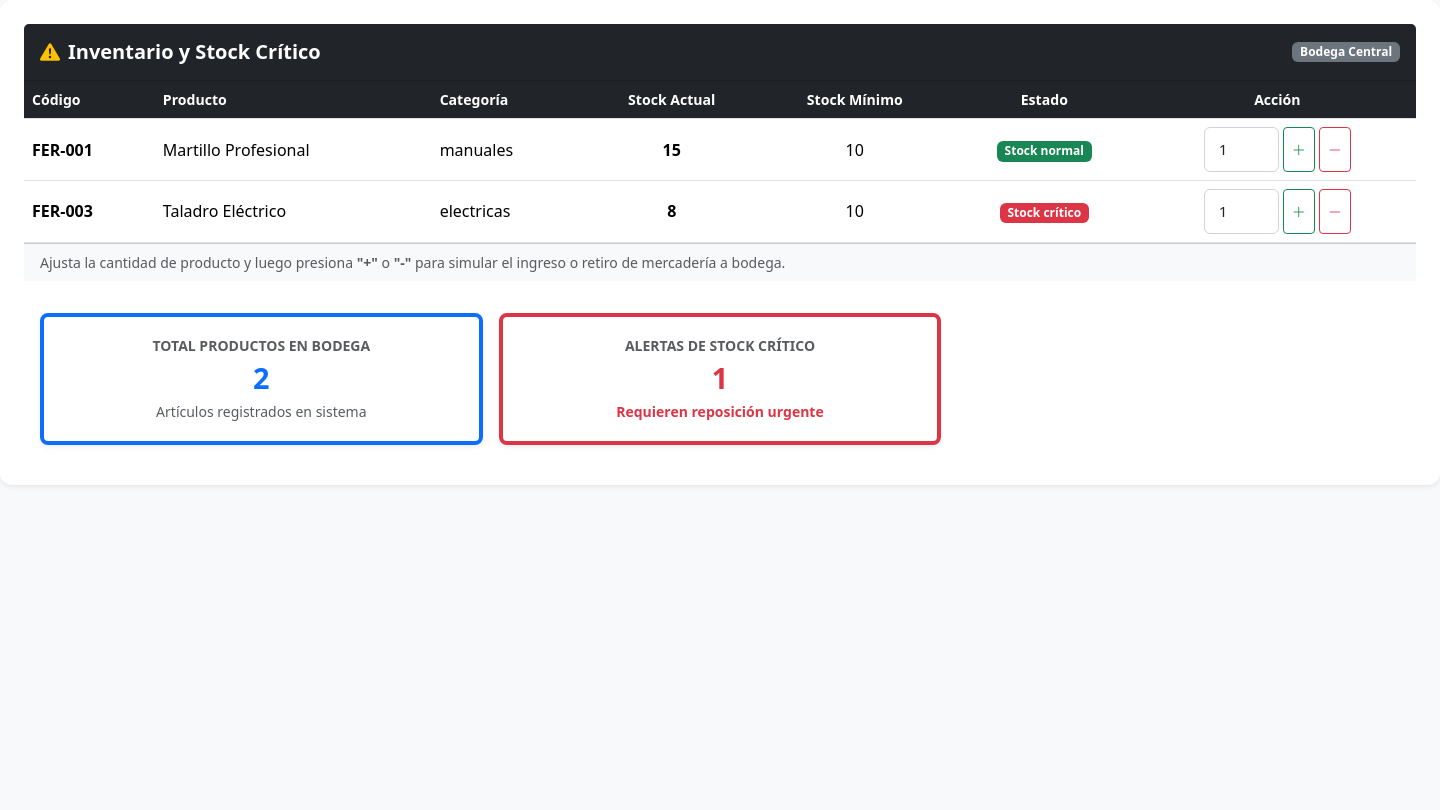
Scenario: ControlStockAdmin › rechaza cantidades inválidas y quitar más stock del disponible
Replace the text in the number field in the row of "FER-001" with "0" at (1241,150), box [1204,127,1279,172]
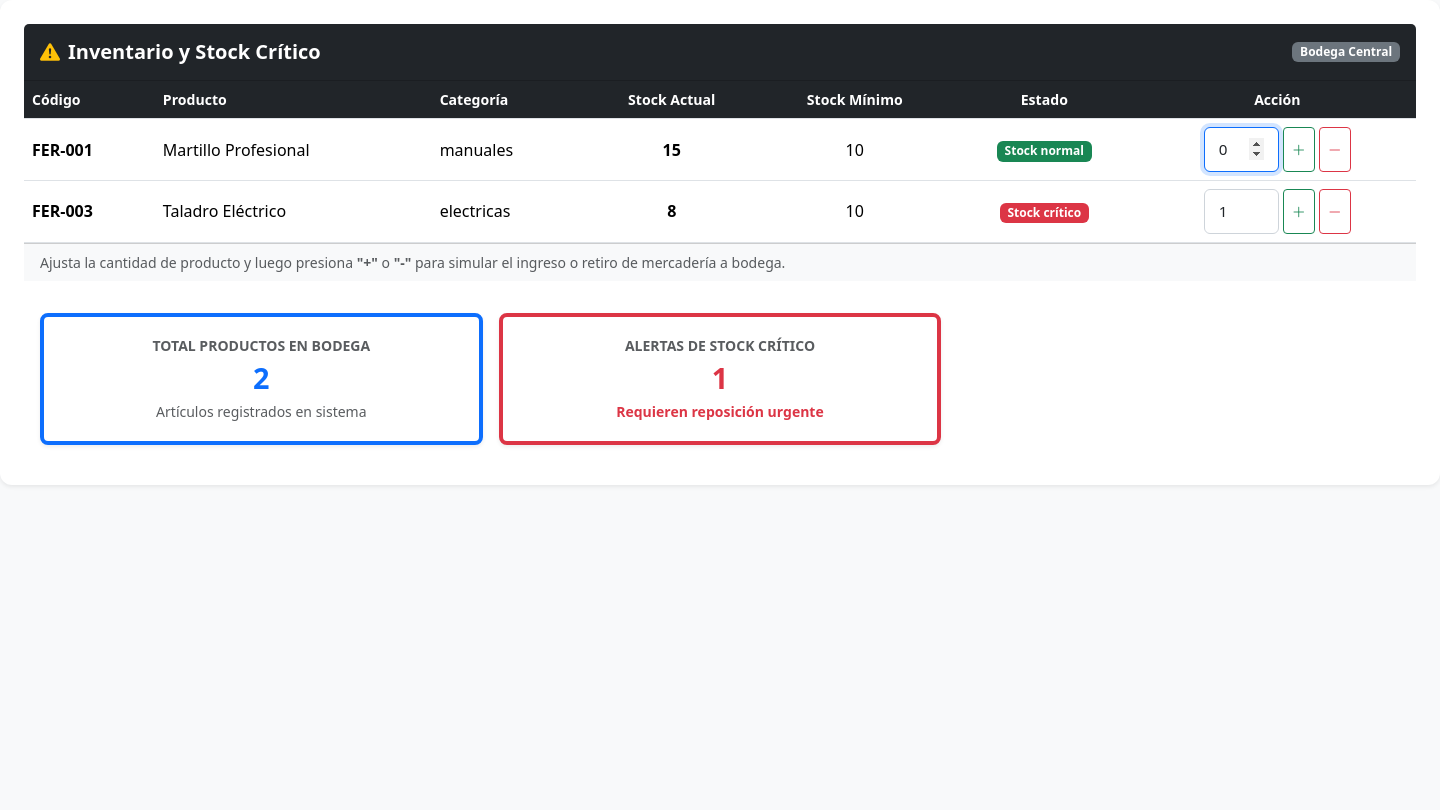
Click the button named "Agregar unidades" in the row of "FER-001" at (1299,150), box [1283,127,1315,172]
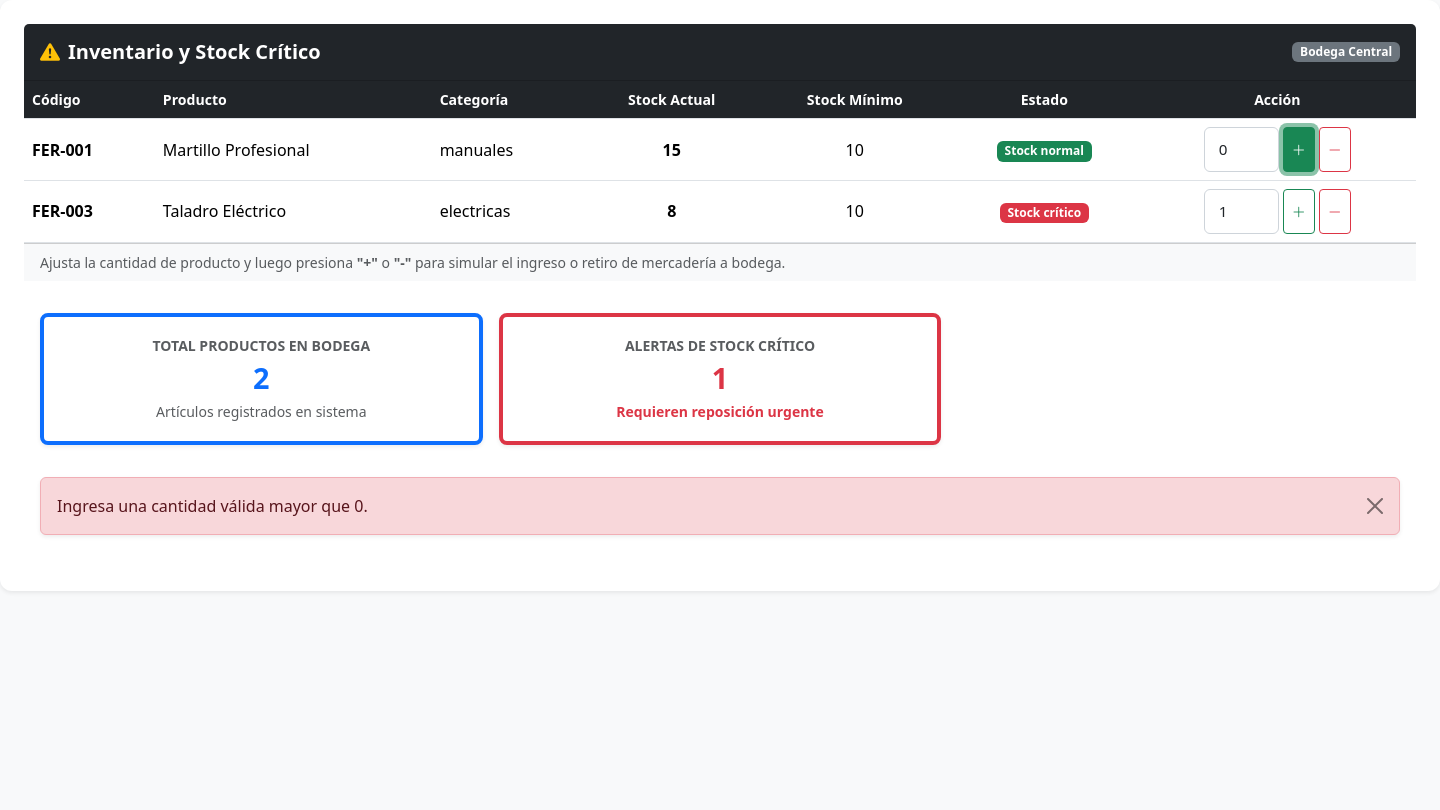
Result: the text "Ingresa una cantidad válida mayor que 0." is shown at [57,495,368,517]
Replace the text in the number field in the row of "FER-003" with "99" at (1241,211), box [1204,189,1279,234]
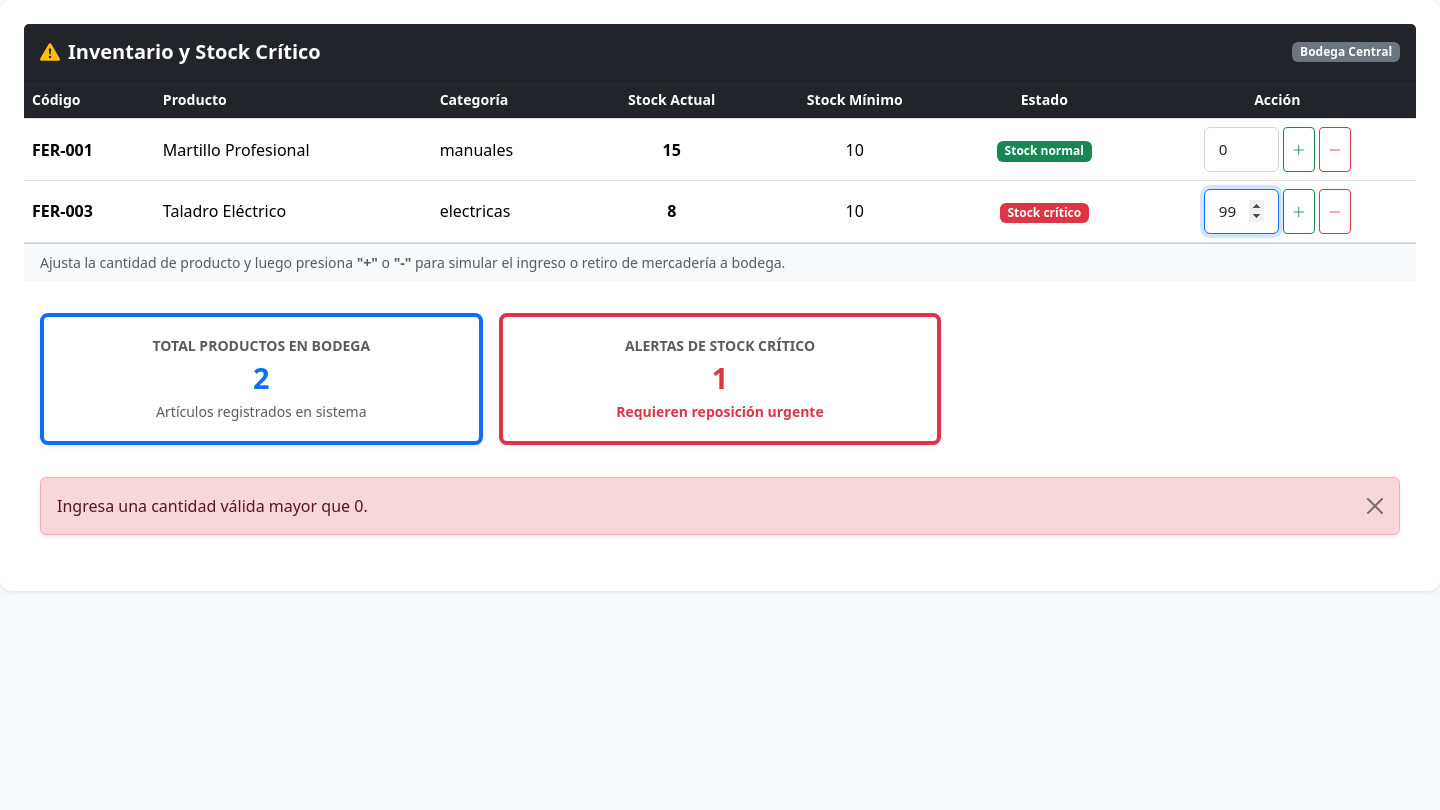
Click the button named "Quitar unidades" in the row of "FER-003" at (1335,211), box [1319,189,1351,234]
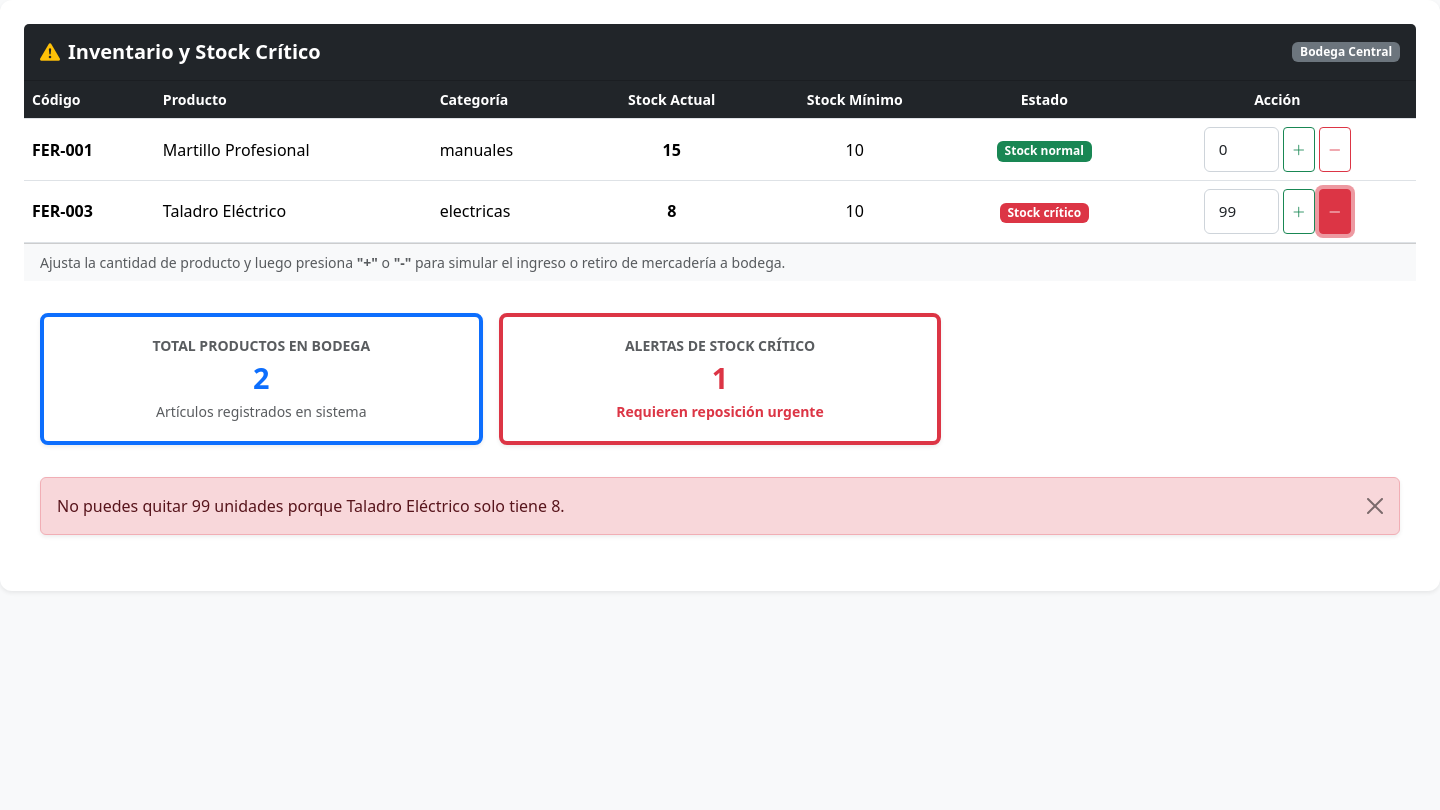
Result: the text "No puedes quitar 99 unidades porque Taladro Eléctrico solo tiene 8" is shown at [57,495,565,517]
